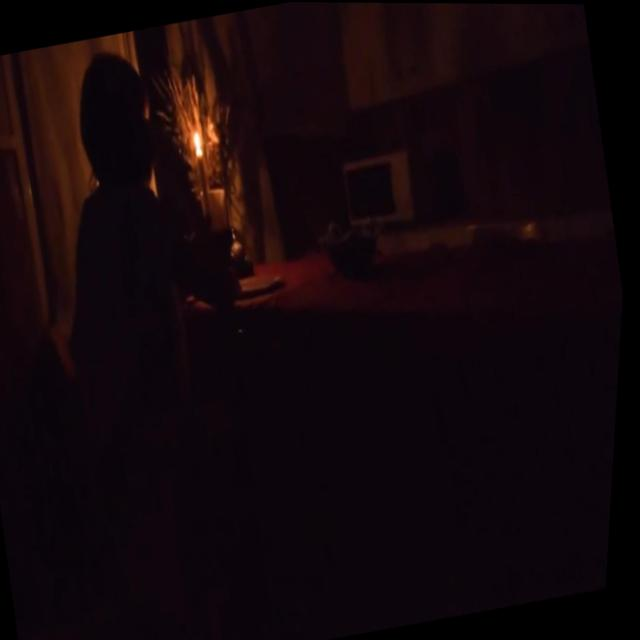fire: (192, 129, 207, 153)
